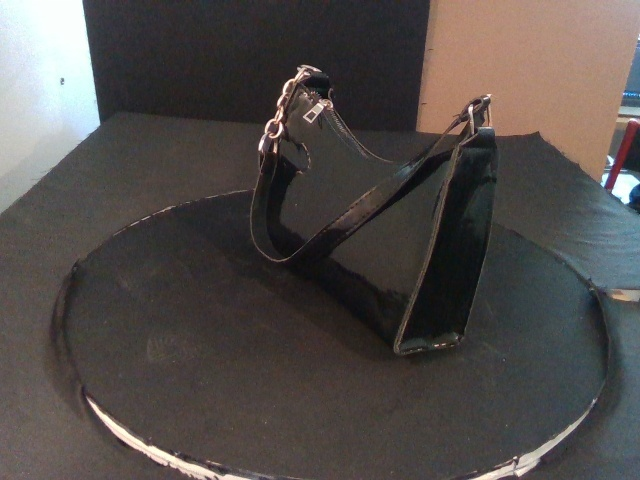bag: (258, 65, 498, 355)
